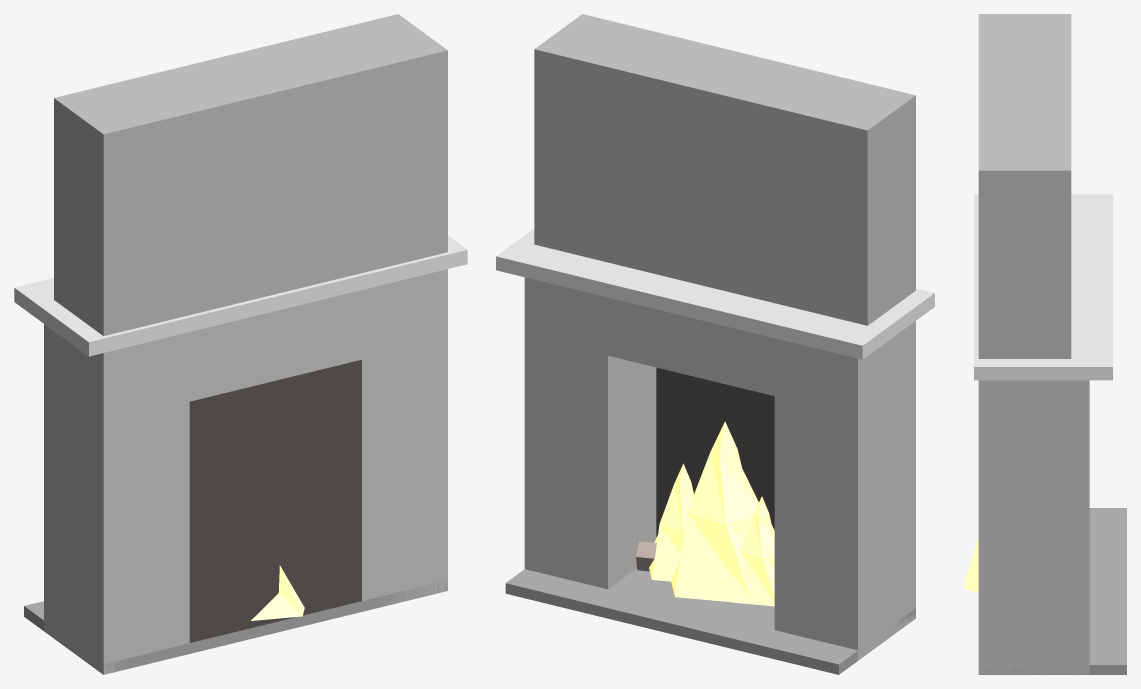
The model's file is fireplace.glb.
3 renders of one model, left to right at view 1: azimuth 30°, elevation 25°; view 2: azimuth 150°, elevation 25°; view 3: azimuth 270°, elevation 25°, orthographic. The views are drawn at different scales.
Visible parts, largest first — view 1: Body, Fire; view 2: Body, Fire; view 3: Body, Fire.
Part boxes in pixels (<box>): Body: <box>14,14,467,674</box>; Fire: <box>251,566,304,620</box>; Body: <box>496,14,934,674</box>; Fire: <box>649,421,774,606</box>; Body: <box>974,14,1126,674</box>; Fire: <box>963,536,978,592</box>.
Bounding box in the file's own units: 2.2 × 3 × 0.8829.
